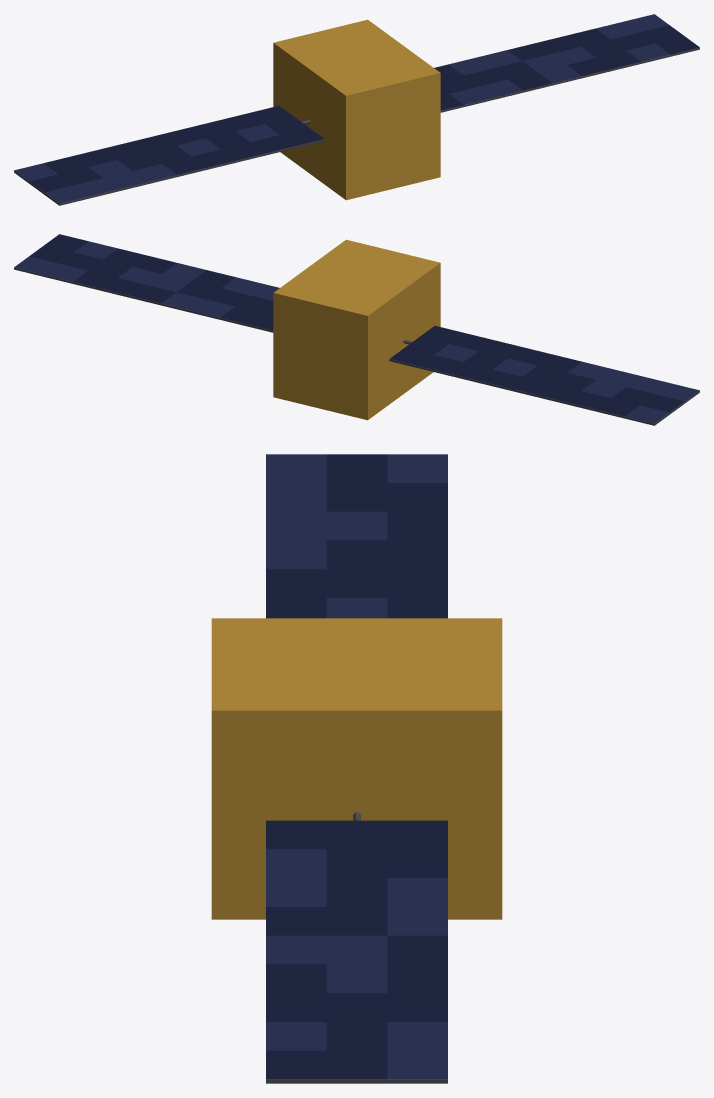
Rendered from gen-box-l.obj.
The picture shows the model from 3 angles, top to bottom: view 1: azimuth 30°, elevation 25°; view 2: azimuth 150°, elevation 25°; view 3: azimuth 270°, elevation 25°; orthographic projection. The views are drawn at different scales.
Visible parts, largest first — view 1: gen-box-l; view 2: gen-box-l; view 3: gen-box-l.
Boxes of the visible parts, box(x1,y1,x2,y2) form: gen-box-l: box(14, 14, 699, 205); gen-box-l: box(14, 234, 699, 425); gen-box-l: box(211, 454, 502, 1083).
Bounding box in the file's own units: 12.2 × 1.9 × 2.4.
